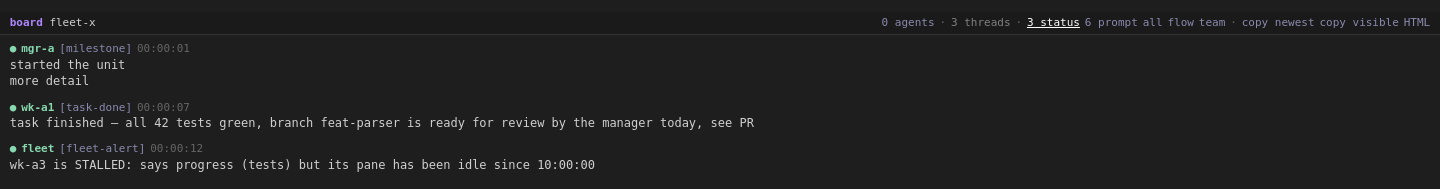
it: board team view (design 054 §8b) › says so when the board has no fleet
Click the button "team": {"x": 1212, "y": 23} [1199,15,1225,31]
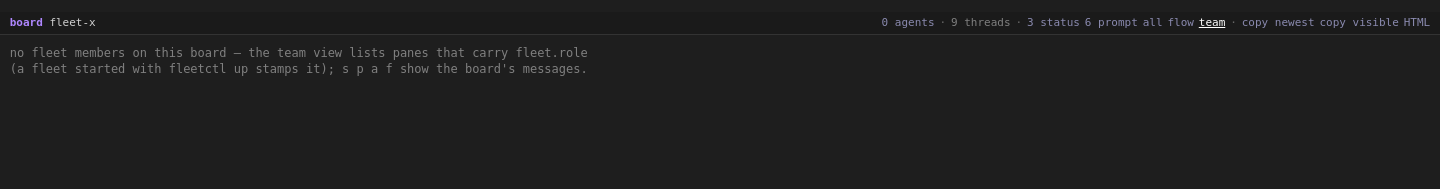
Expected: the element with test id "board-team" shows "no fleet members on this board", [10,46,588,60]
